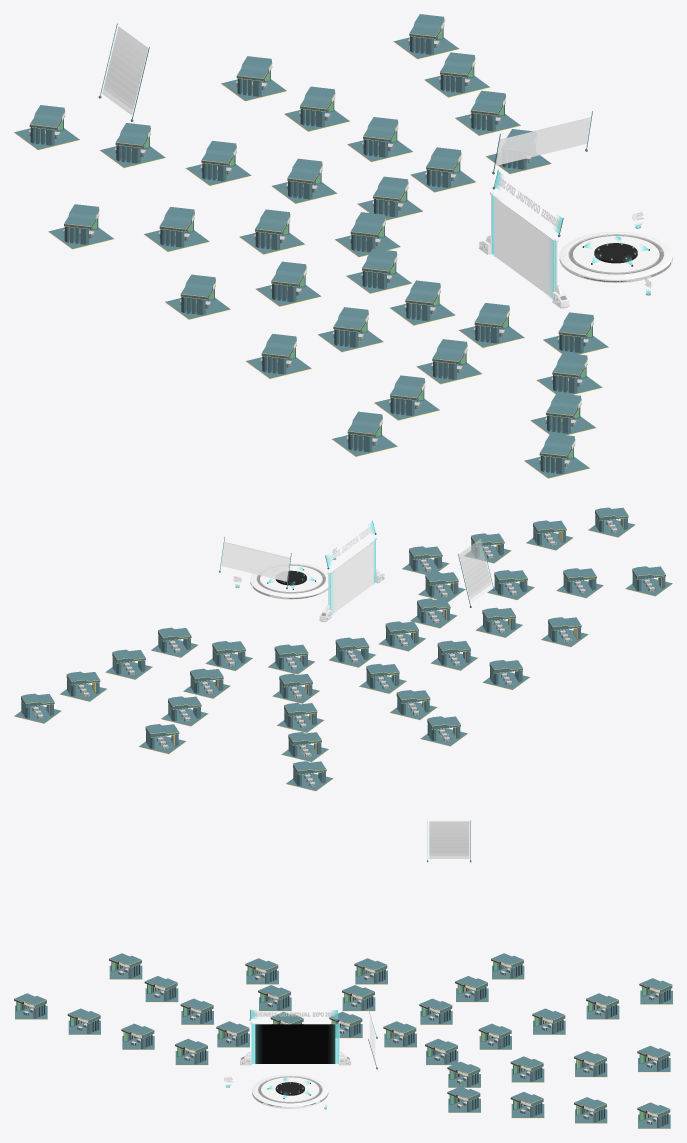
The model's file is clean-v3-r512.glb.
3 views of the same model, one above another, from view 1: azimuth 30°, elevation 25°; view 2: azimuth 150°, elevation 25°; view 3: azimuth 270°, elevation 25° (orthographic). The views are drawn at different scales.
Visible parts, largest first — view 1: Cube020, Plane054, bigPoster, bigPoster001, Plane080, Plane080_3_27, Plane080_3_8, Plane080_3_25, Plane080_3_3, Plane080_3_14, Plane080_3_16, Plane080_3_12 (+25 smaller); view 2: Plane054, Cube020, bigPoster001, bigPoster, Plane080, Plane080_3_29, Plane080_3, Plane080_3_19, Plane080_3_13, Plane080_3_27, Plane080_3_10, Plane080_3_18 (+23 smaller); view 3: Plane055, Cube020, bigPoster, Plane080, Plane080_3_20, Plane080_3_29, Plane080_3_15, Plane080_3_5, Plane080_3_10, Plane080_3_17, Plane080_3_11, Plane080_3_24 (+22 smaller).
Boxes of the visible parts, <box> form: Cube020: <box>559,231,672,282</box>; Plane054: <box>494,197,553,298</box>; bigPoster: <box>102,26,147,115</box>; bigPoster001: <box>495,117,590,165</box>; Plane080: <box>524,433,589,478</box>; Plane080_3_27: <box>272,158,336,203</box>; Plane080_3_8: <box>239,209,304,254</box>; Plane080_3_25: <box>284,86,349,131</box>; Plane080_3_3: <box>346,248,411,293</box>; Plane080_3_14: <box>256,261,320,306</box>; Plane080_3_16: <box>318,307,383,351</box>; Plane080_3_12: <box>424,52,489,97</box>; Plane054: <box>330,541,373,614</box>; Cube020: <box>250,562,330,599</box>; bigPoster001: <box>221,542,289,581</box>; bigPoster: <box>459,539,492,602</box>; Plane080: <box>588,507,635,537</box>; Plane080_3_29: <box>281,732,328,761</box>; Plane080_3: <box>205,641,252,670</box>; Plane080_3_19: <box>556,568,603,597</box>; Plane080_3_13: <box>105,649,152,679</box>; Plane080_3_27: <box>272,673,319,703</box>; Plane080_3_10: <box>420,716,467,745</box>; Plane080_3_18: <box>487,570,534,599</box>; Plane055: <box>255,1024,335,1063</box>; Cube020: <box>252,1074,328,1108</box>; bigPoster: <box>429,821,469,858</box>; Plane080: <box>14,993,47,1019</box>; Plane080_3_20: <box>109,953,142,979</box>; Plane080_3_29: <box>586,993,619,1019</box>; Plane080_3_15: <box>354,958,387,984</box>; Plane080_3_5: <box>216,1021,249,1047</box>; Plane080_3_10: <box>491,953,524,979</box>; Plane080_3_17: <box>245,958,278,984</box>; Plane080_3_11: <box>637,1102,670,1128</box>; Plane080_3_24: <box>510,1056,544,1082</box>.
Size of what is drawn, in the model's own units: 78.4 by 34.86 by 134.
Materials: 11 (4 with a texture image).
